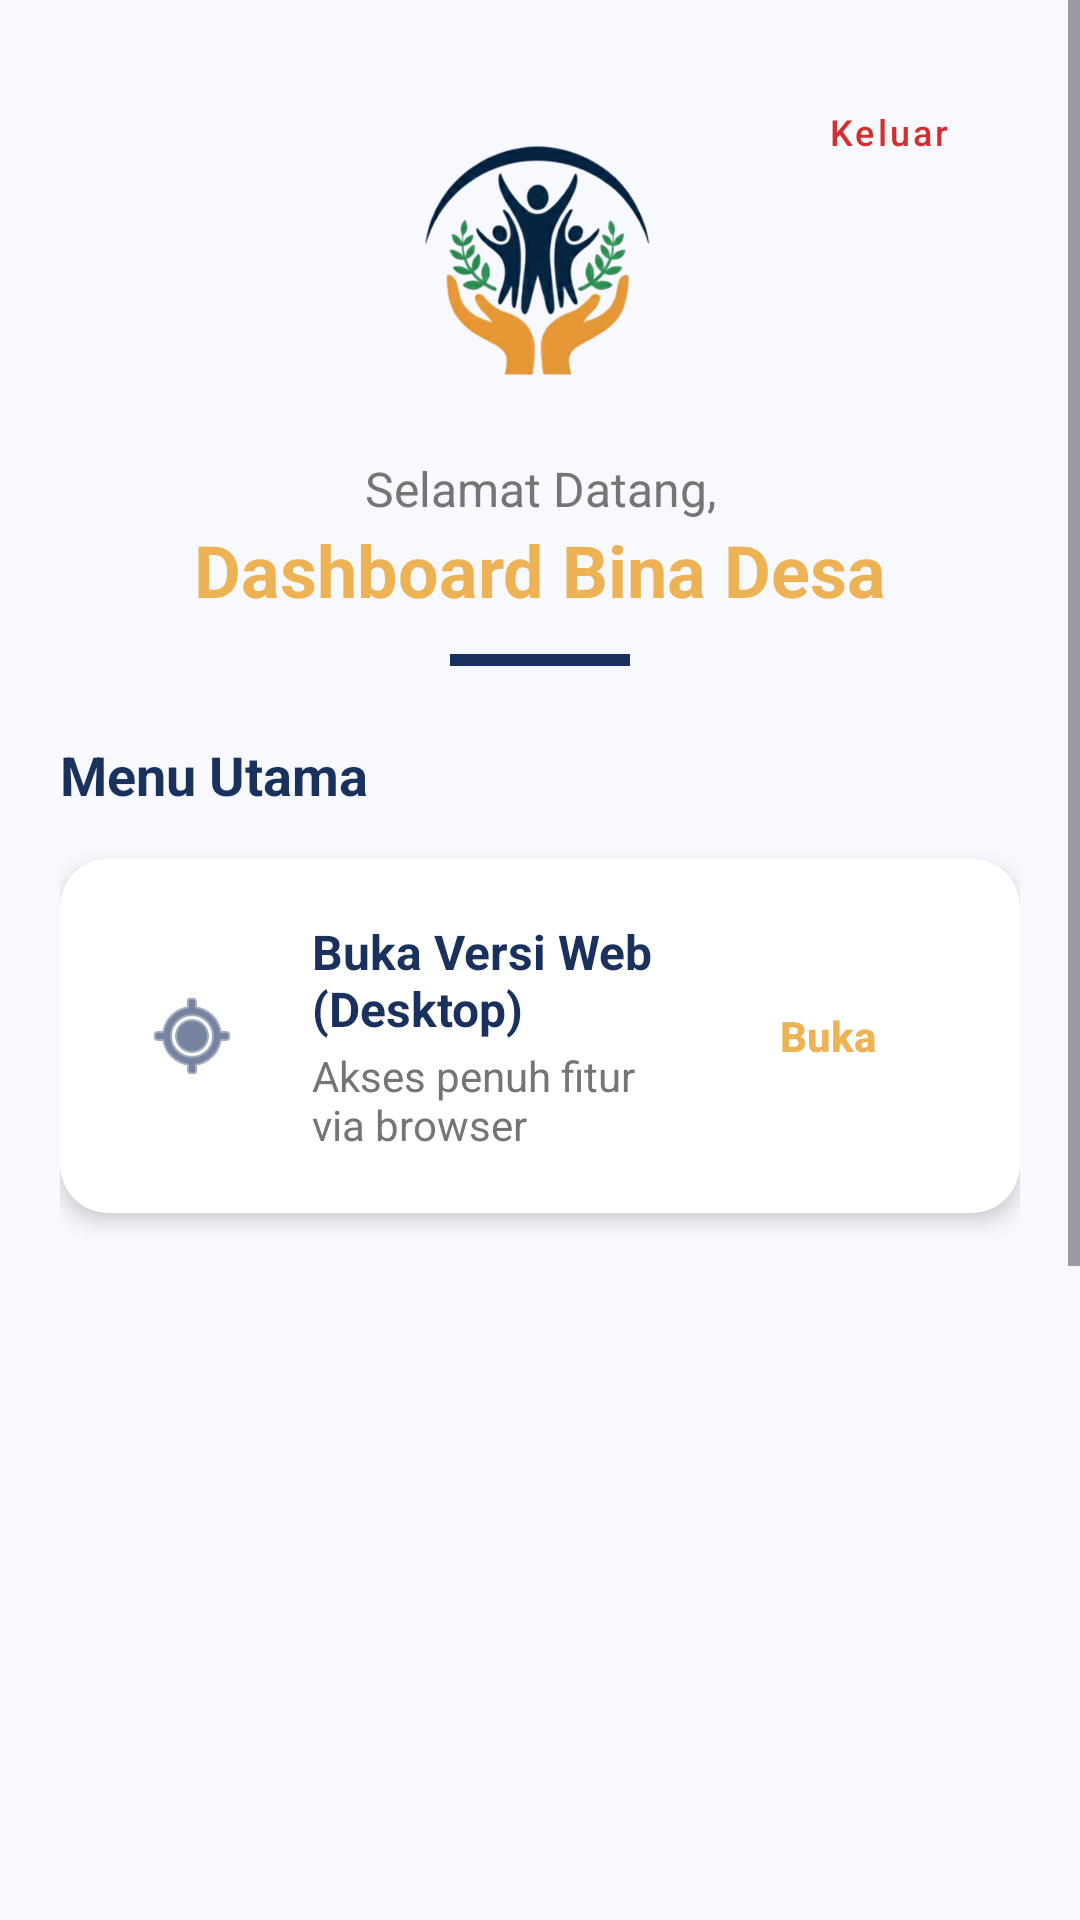

Where to tap for icons on this 1080×1920 app screen, as (x,y):
mylocation: (192,1036)
